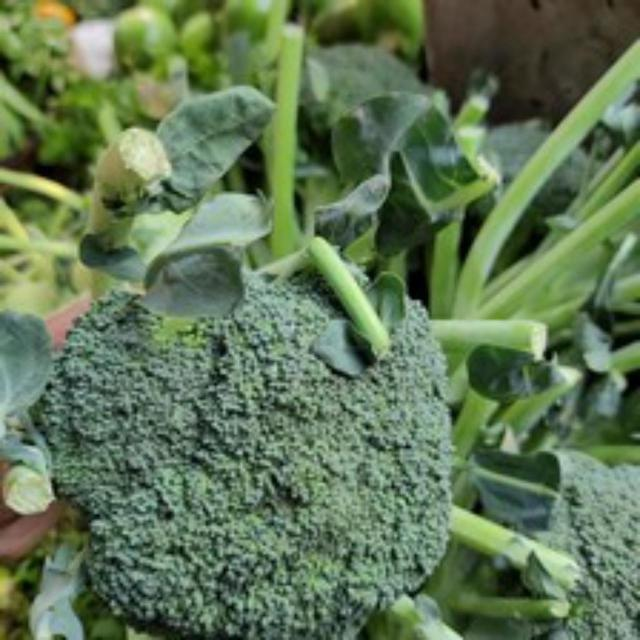broccoli: (40, 266, 454, 636)
